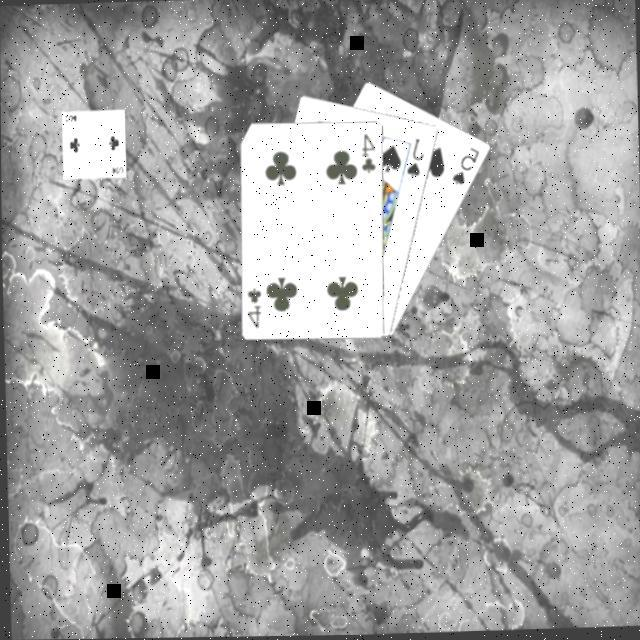4C: (355, 130, 377, 176), (242, 284, 264, 330)
5S: (446, 144, 481, 188)
JS: (400, 135, 426, 180)
